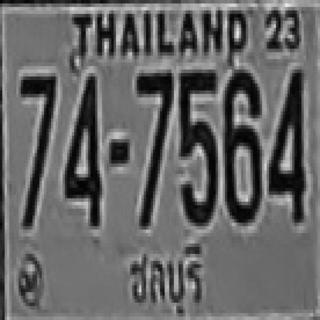N04: (267, 66, 304, 219), (63, 71, 100, 224)
N05: (178, 70, 216, 222)
N06: (223, 68, 260, 221)
N07: (18, 73, 56, 226), (134, 70, 172, 222), (134, 70, 172, 174), (18, 73, 56, 174)
P13: (119, 241, 216, 318)
